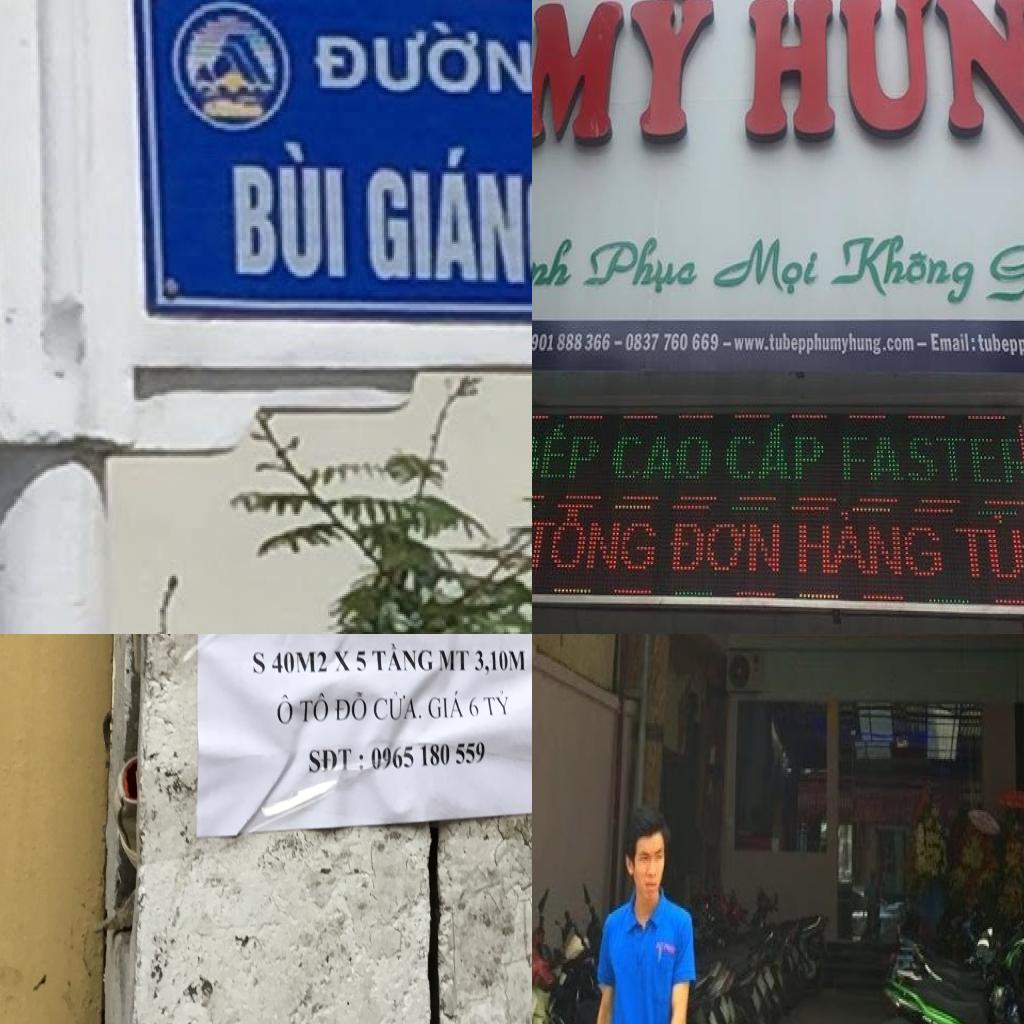text: (733, 0, 1024, 151), (532, 0, 734, 166), (306, 18, 532, 102), (222, 140, 352, 286), (826, 233, 984, 312), (791, 507, 947, 583), (838, 430, 1005, 486), (580, 228, 702, 301), (532, 507, 661, 575), (708, 231, 828, 298), (668, 518, 782, 577), (725, 422, 830, 486), (609, 430, 714, 484), (731, 331, 917, 358), (532, 420, 605, 485), (369, 737, 487, 774), (982, 237, 1024, 311), (532, 232, 581, 291), (622, 330, 722, 354), (370, 640, 434, 672), (532, 329, 612, 353), (372, 689, 425, 723), (306, 745, 366, 775), (473, 647, 528, 677), (270, 649, 329, 676), (976, 329, 1024, 359), (926, 331, 978, 358), (332, 689, 368, 724), (427, 688, 465, 721), (298, 690, 331, 726), (481, 687, 510, 719), (438, 648, 470, 673), (276, 692, 295, 728), (332, 647, 352, 674), (251, 650, 267, 676), (354, 648, 368, 674), (468, 695, 481, 719)
